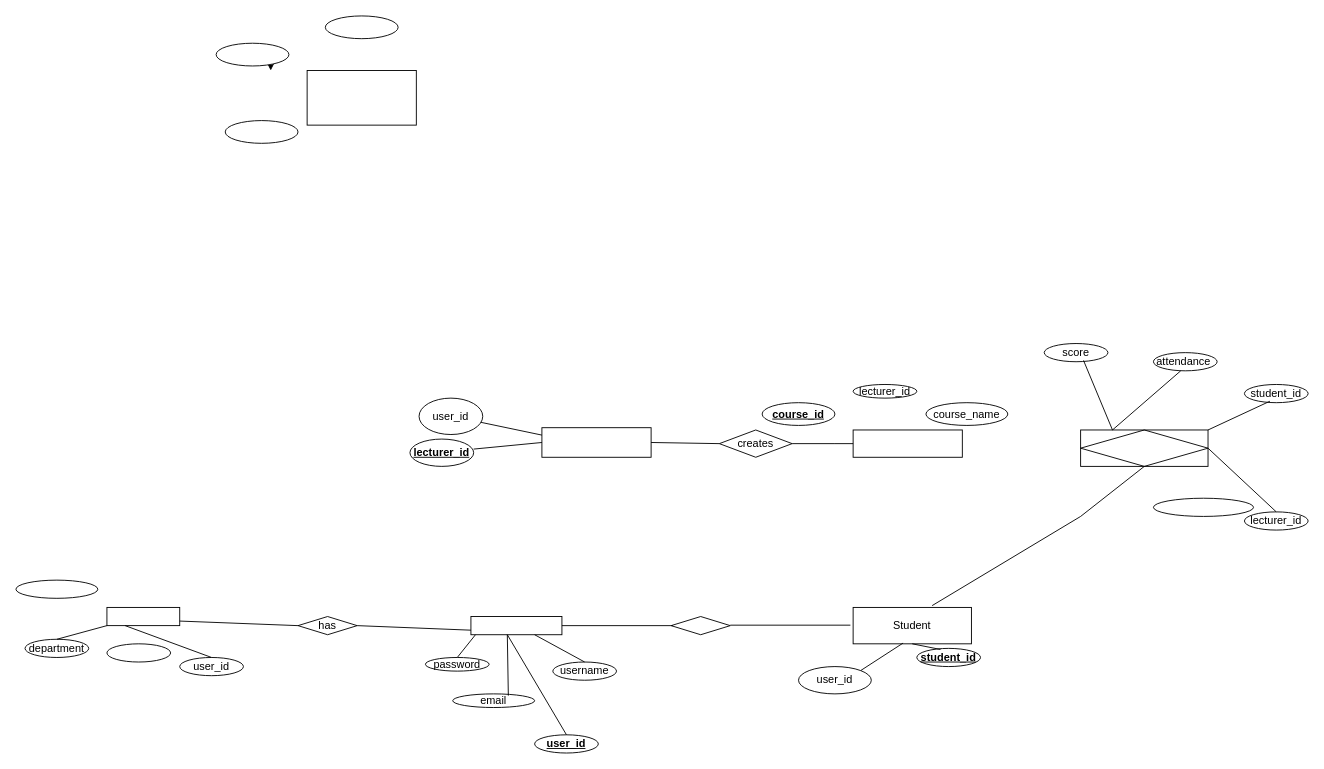
The diagram is 1324 pixels wide and 769 high, and some of its shapes have lost their labels. The shapes that lost their labels are listed below. From the top down, each one's centre as x and y in pixels, then its label:
At (x=361, y=97): "Course Performance".
At (x=596, y=442): "Lecturer".
At (x=907, y=443): "Course".
At (x=1144, y=447): "Enrollment".
At (x=1203, y=506): "enrollment_id".
At (x=56, y=588): "phone_number".
At (x=143, y=616): "Account".
At (x=516, y=625): "User".
At (x=700, y=625): "is a".
At (x=138, y=652): "account_id".
